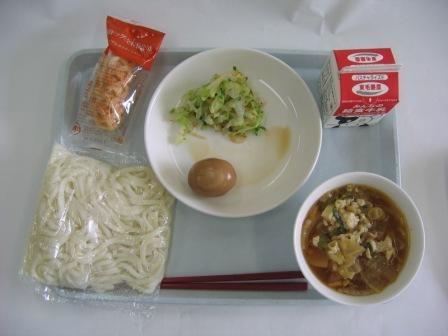Fish: (173, 65, 277, 136)
Milk: (312, 42, 402, 141)
Soups: (303, 181, 425, 303)
Udon: (17, 139, 169, 295)
boiled eggs: (176, 152, 246, 213)
pastry: (72, 19, 156, 139)
